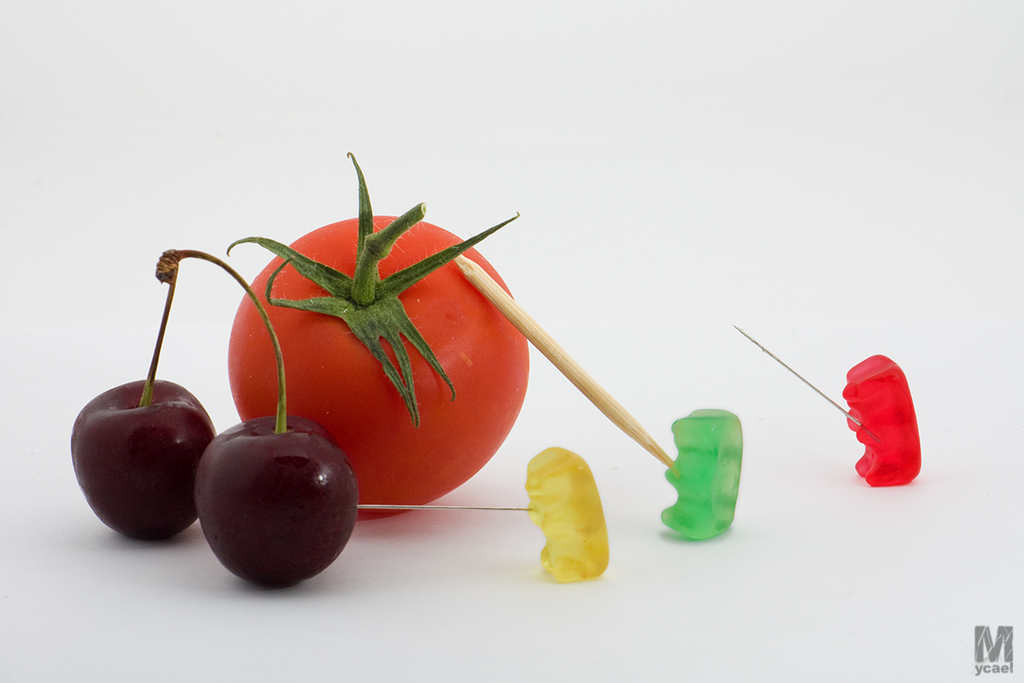Tomato: (212, 208, 549, 500)
